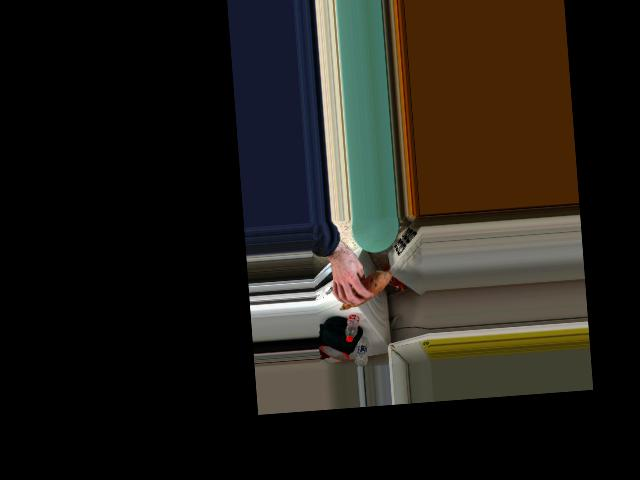sweet_potato: (335, 269, 391, 308)
